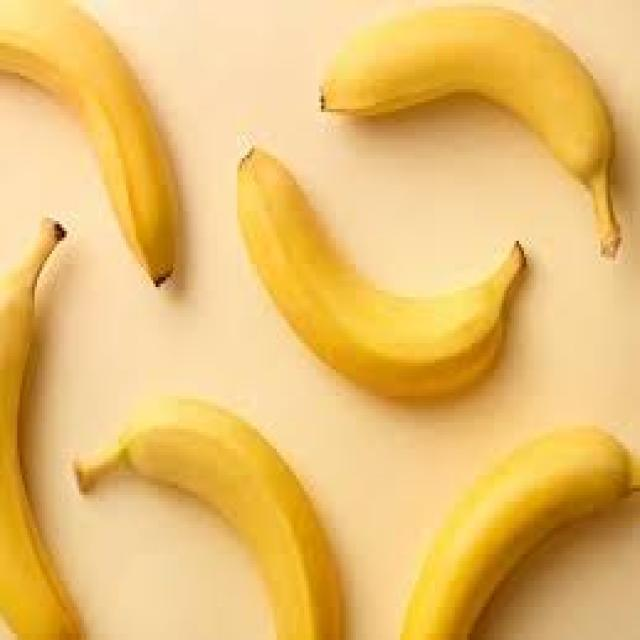Banana: (316, 0, 622, 261), (234, 142, 526, 400), (71, 392, 346, 636), (396, 422, 638, 637), (0, 0, 180, 287), (0, 214, 86, 636)
